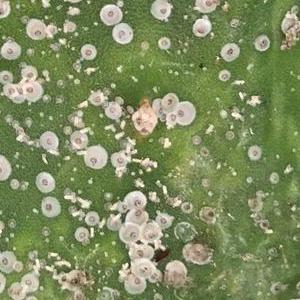Femea: (131, 198, 143, 223), (86, 149, 102, 164), (128, 275, 143, 291), (38, 132, 54, 146), (28, 23, 41, 39), (71, 133, 87, 146), (194, 22, 208, 36), (154, 213, 168, 227), (125, 225, 137, 241), (132, 247, 149, 258), (113, 28, 127, 41), (153, 2, 166, 16), (2, 42, 15, 55), (24, 83, 37, 96), (36, 175, 49, 188), (88, 91, 101, 104), (105, 105, 118, 118), (221, 45, 233, 59), (101, 8, 114, 20), (176, 108, 190, 119), (42, 196, 52, 211), (144, 224, 154, 239), (163, 94, 175, 106), (136, 262, 149, 273), (1, 84, 12, 96), (23, 278, 34, 289), (24, 69, 36, 79), (13, 84, 23, 96), (77, 230, 87, 240), (112, 154, 123, 163), (83, 45, 91, 57), (85, 214, 95, 223), (1, 73, 10, 82)
Linfa: (159, 135, 172, 149), (86, 176, 95, 185), (69, 176, 76, 183), (72, 165, 78, 172), (129, 171, 135, 175)
Macho: (74, 194, 90, 207), (45, 147, 58, 157), (37, 152, 47, 164), (101, 122, 114, 131), (123, 140, 132, 153), (236, 91, 246, 102), (111, 131, 126, 138), (160, 184, 168, 197), (74, 99, 87, 107), (61, 193, 75, 200), (205, 122, 213, 134), (129, 156, 142, 163), (140, 155, 148, 166), (77, 126, 90, 132), (88, 226, 94, 238), (71, 114, 77, 125), (75, 150, 88, 155)
